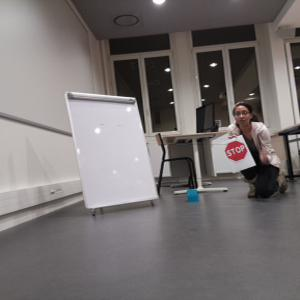stop: (225, 140, 247, 162)
